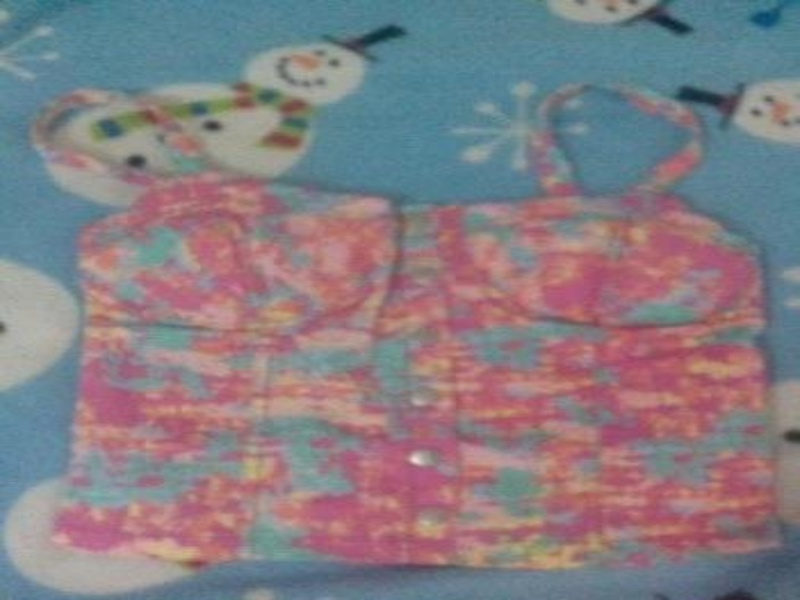sling: (16, 67, 793, 572)
